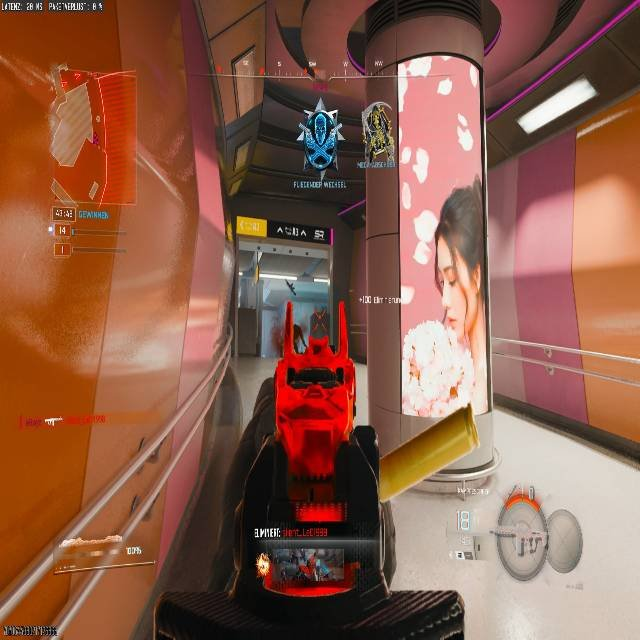player: (403, 319, 477, 418), (296, 104, 344, 181)
